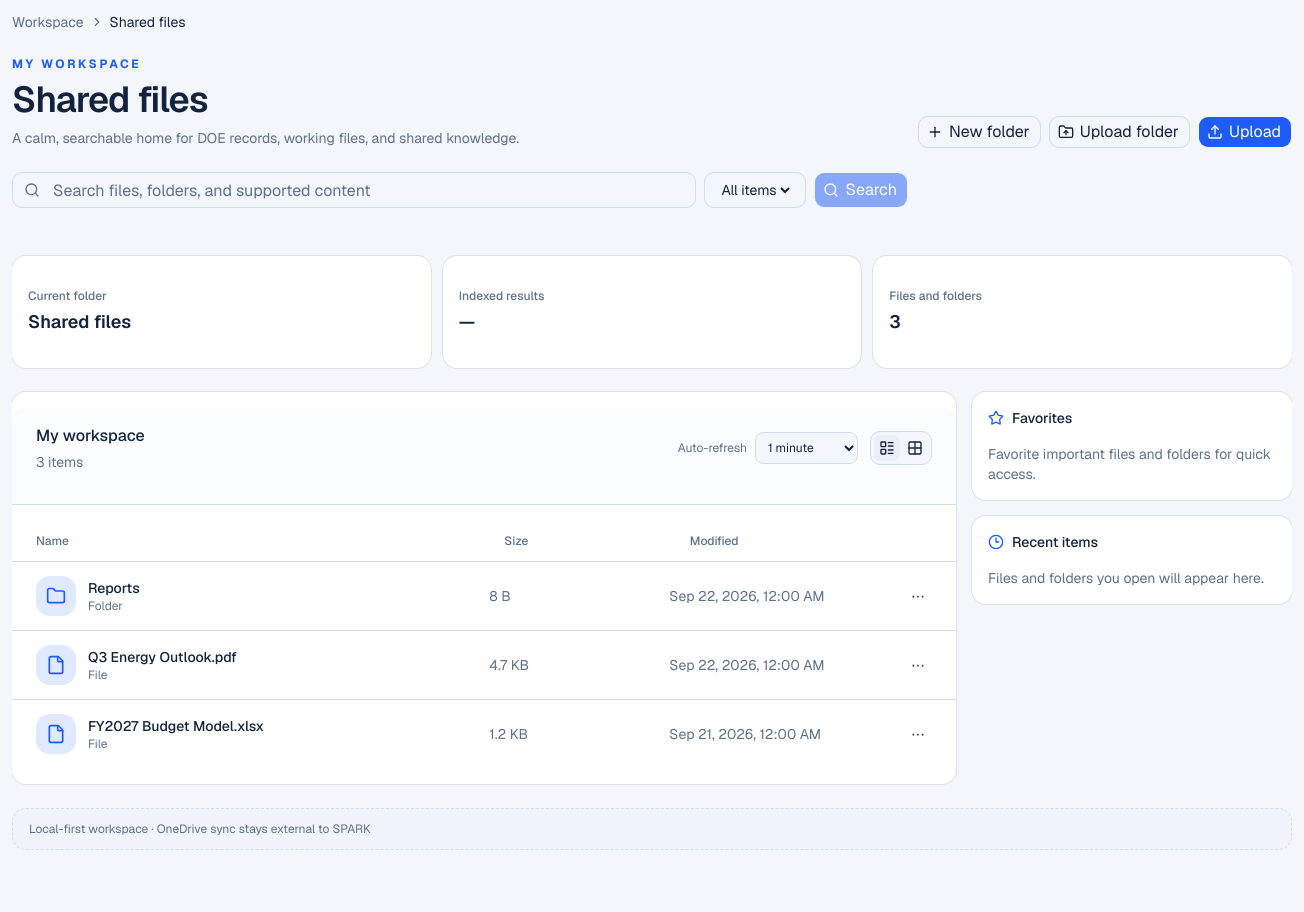
FileWorkspace › ignores an older folder response after navigating back
Click the button "Reports Folder": [56, 596] box [36,576,473,616]
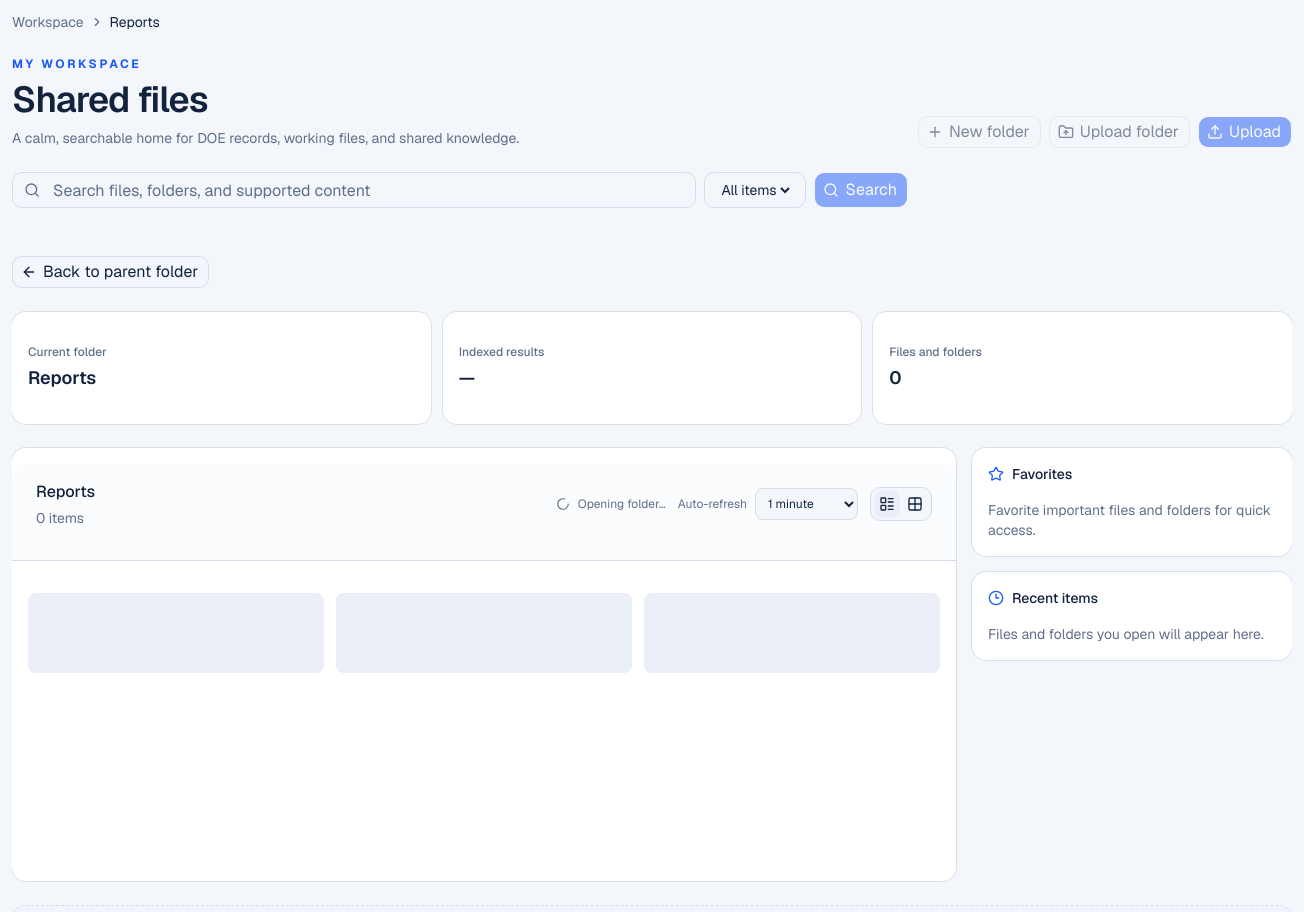
Click the button with aria-label "Go back": [111, 272] box [12,256,209,288]
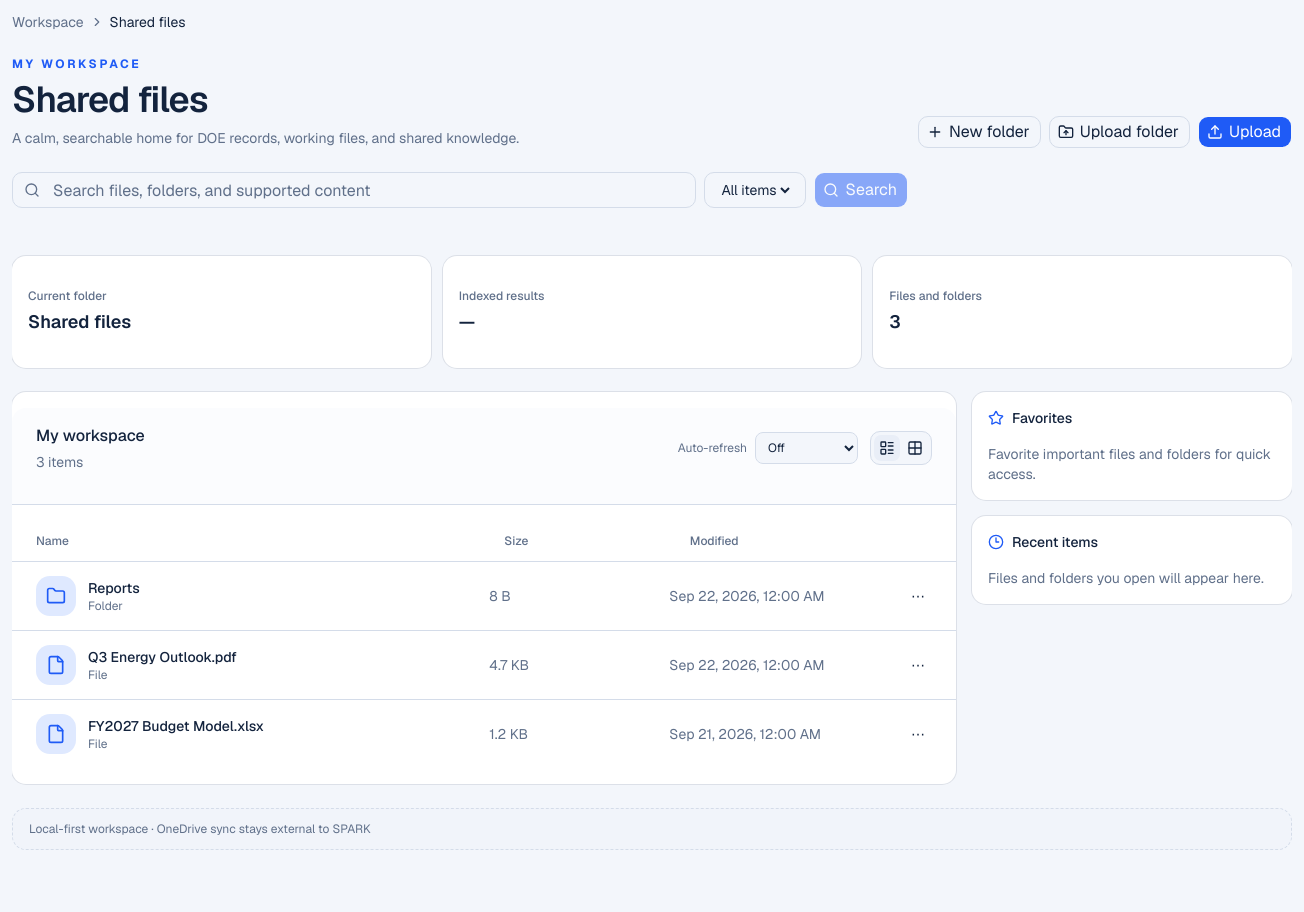
Check: the text "Q3 Energy Outlook.pdf" is shown, box [88,647,237,667]
